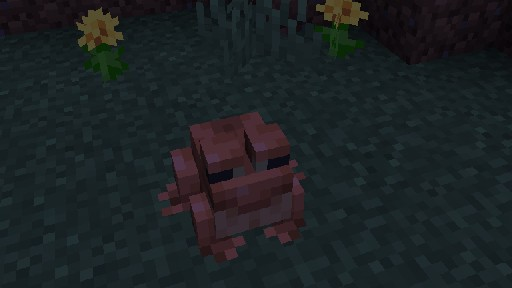frog: (157, 110, 307, 263)
